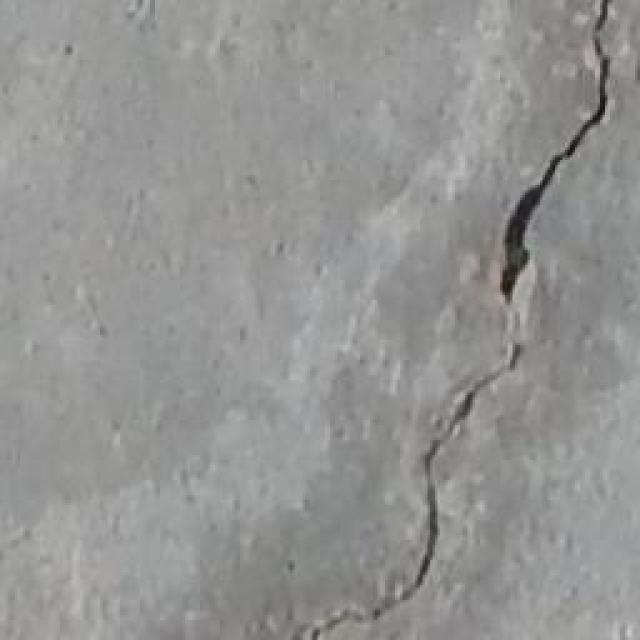concrete-crack: (304, 5, 620, 640)
